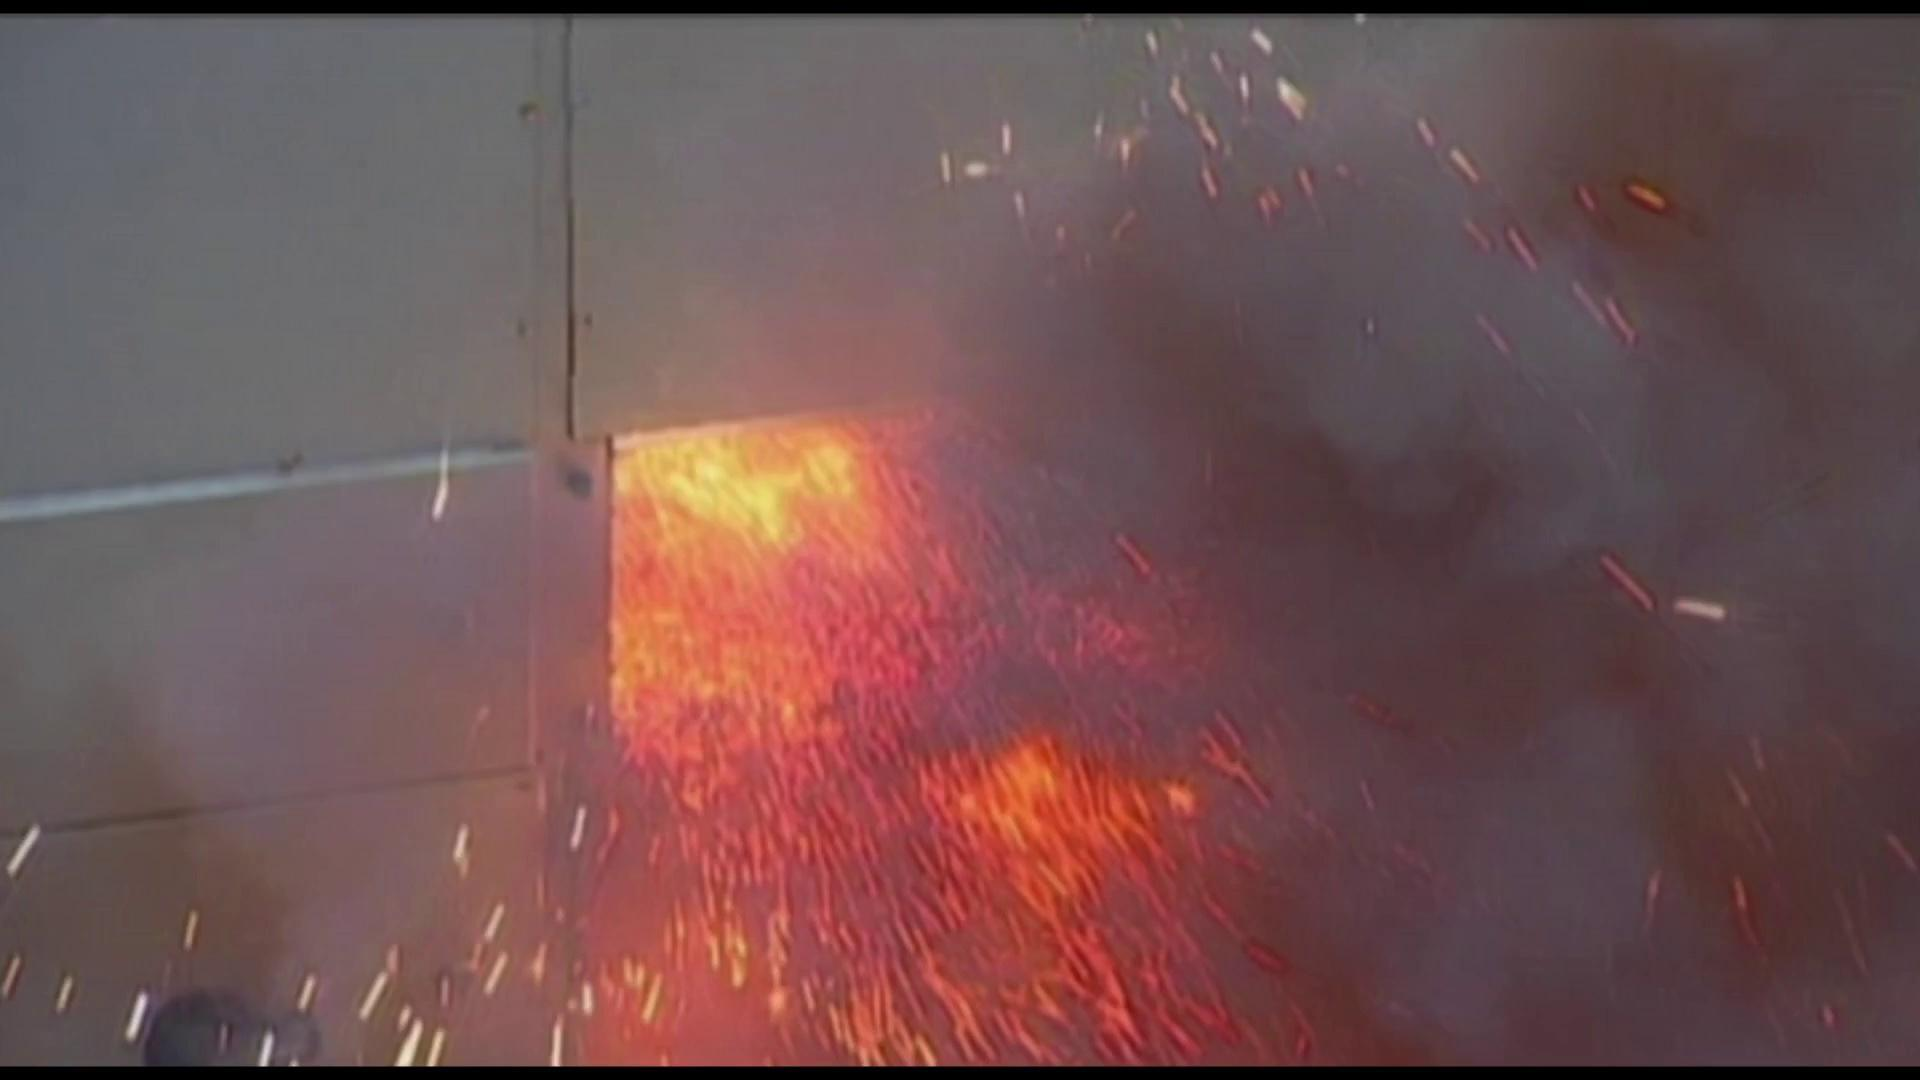fire: (363, 357, 1345, 1067)
